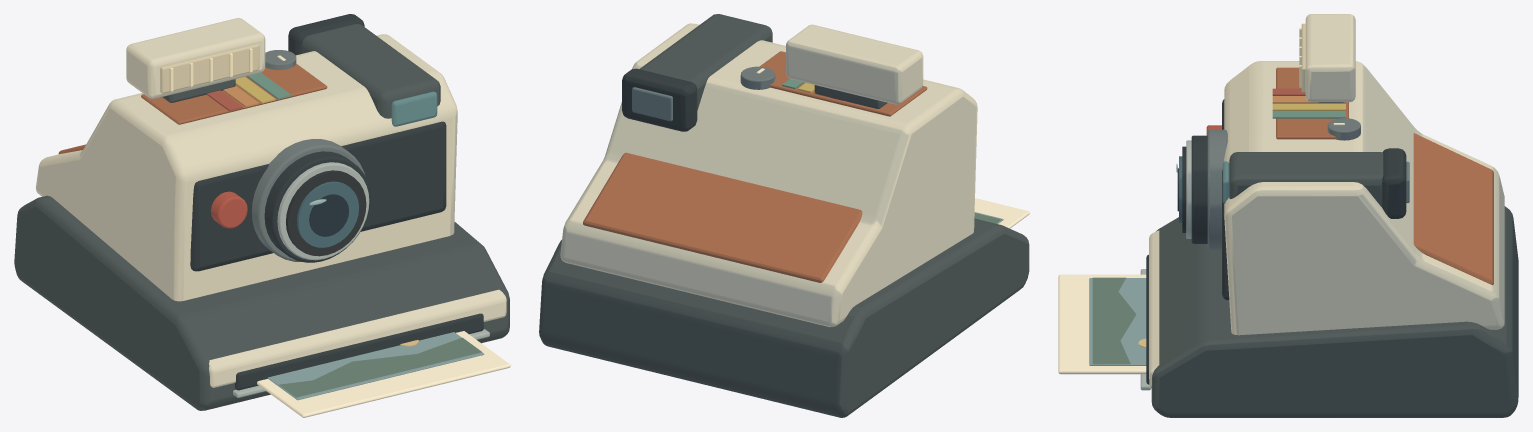
File: 拍立得.glb
3 views of the same model, side by side, from view 1: azimuth 30°, elevation 25°; view 2: azimuth 150°, elevation 25°; view 3: azimuth 270°, elevation 25° (orthographic). The views are drawn at different scales.
Parts seen in each view (by area): view 1: Asset_ditto; view 2: Asset_ditto; view 3: Asset_ditto.
Part boxes in pixels (bbox=[...]): Asset_ditto: bbox=[14, 14, 510, 417]; Asset_ditto: bbox=[539, 14, 1029, 417]; Asset_ditto: bbox=[1058, 14, 1518, 417].
Size of the model in its own units: 4.12 by 3.7 by 5.57.
1 material, 1 textured.
